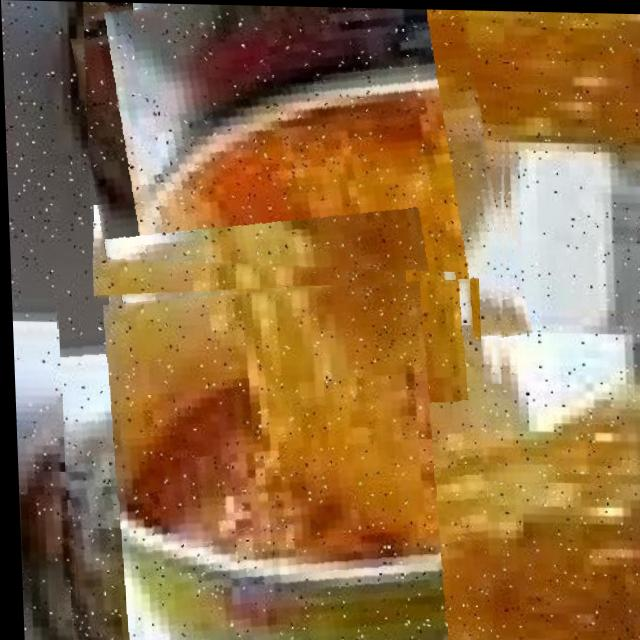Miscellaneous: (82, 1, 517, 382), (54, 269, 486, 640)
